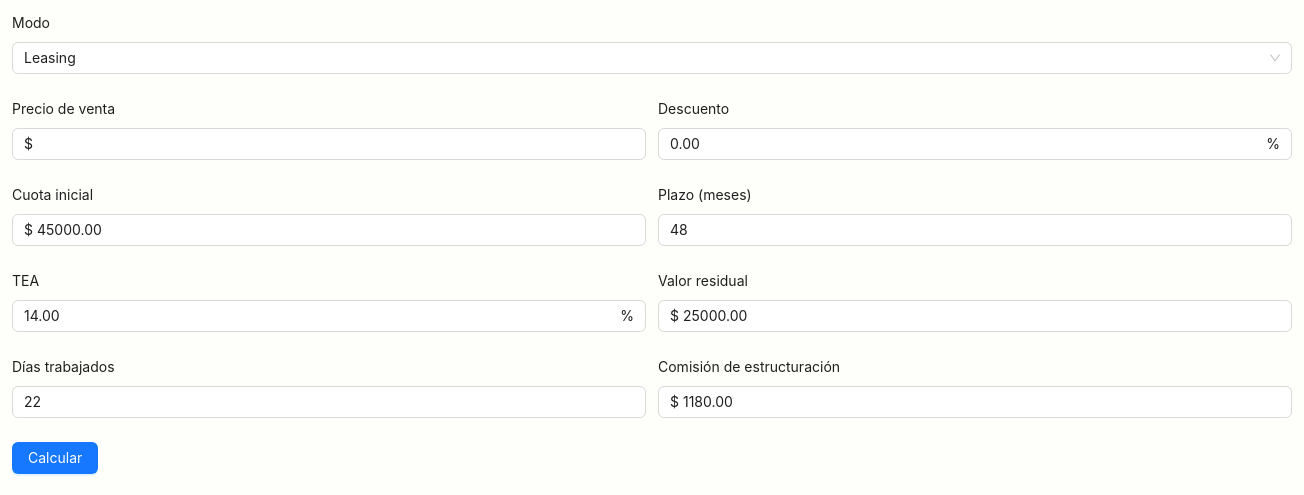
Test: FormularioParametros › muestra el error del backend inline en el campo que indica error.field
Type "150000" into the number field labelled "Precio de venta" at (341, 144), box [37, 129, 645, 159]
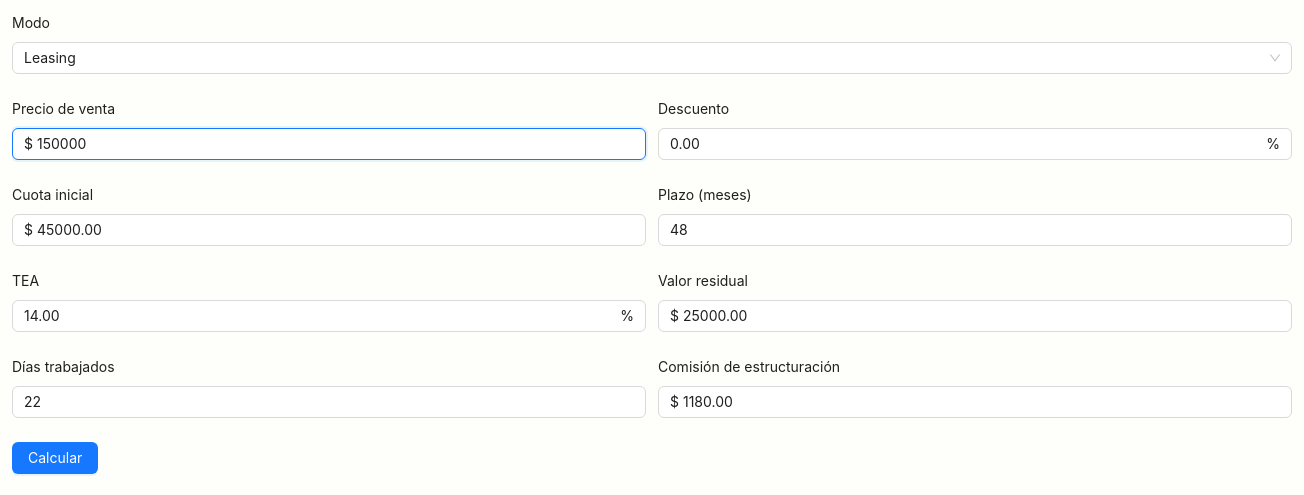
Click the button "Calcular" at (55, 458), box [12, 442, 98, 474]
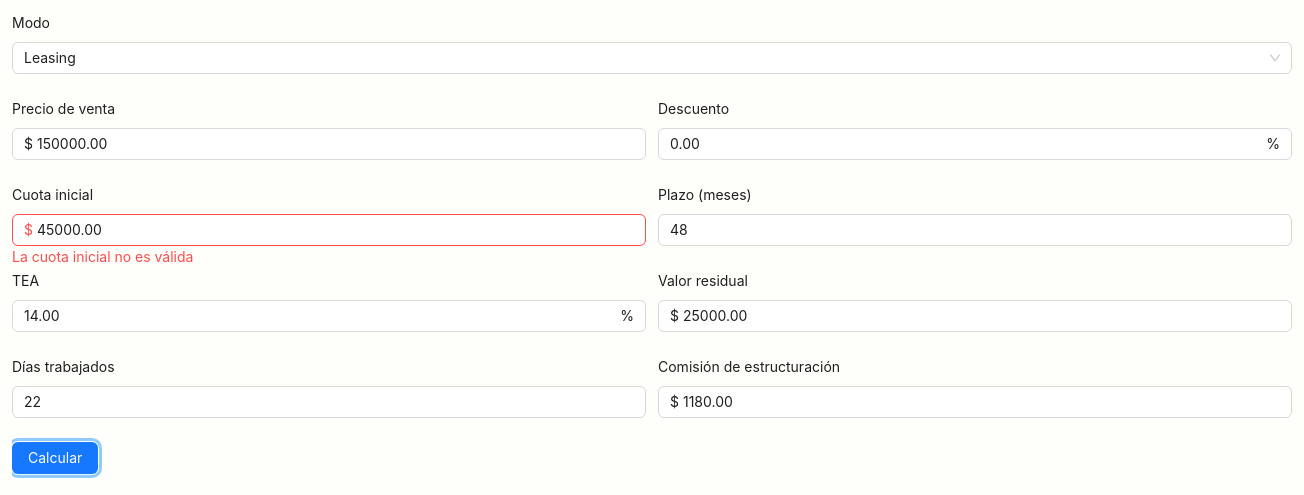
Check: the text "La cuota inicial no es válida" is shown, box [12, 248, 193, 265]
Check: the element labelled "Cuota inicial $ La cuota inicial no es válida" is shown, box [12, 184, 646, 246]
